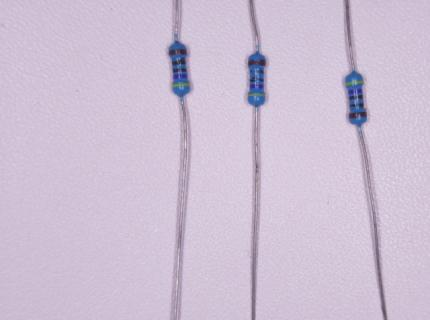Violet band: (349, 89, 363, 95), (172, 75, 188, 80), (251, 84, 264, 89)
Yellow band: (172, 82, 191, 88), (346, 80, 364, 86), (247, 93, 265, 97)
